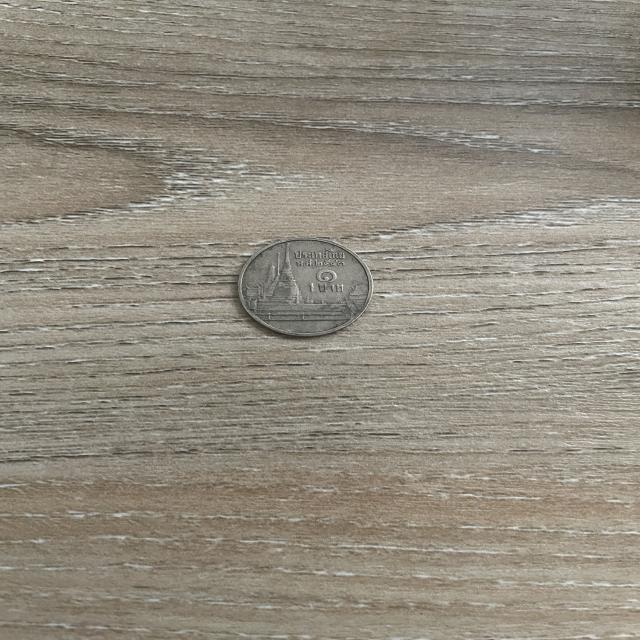1 Bath: (222, 230, 387, 348)
